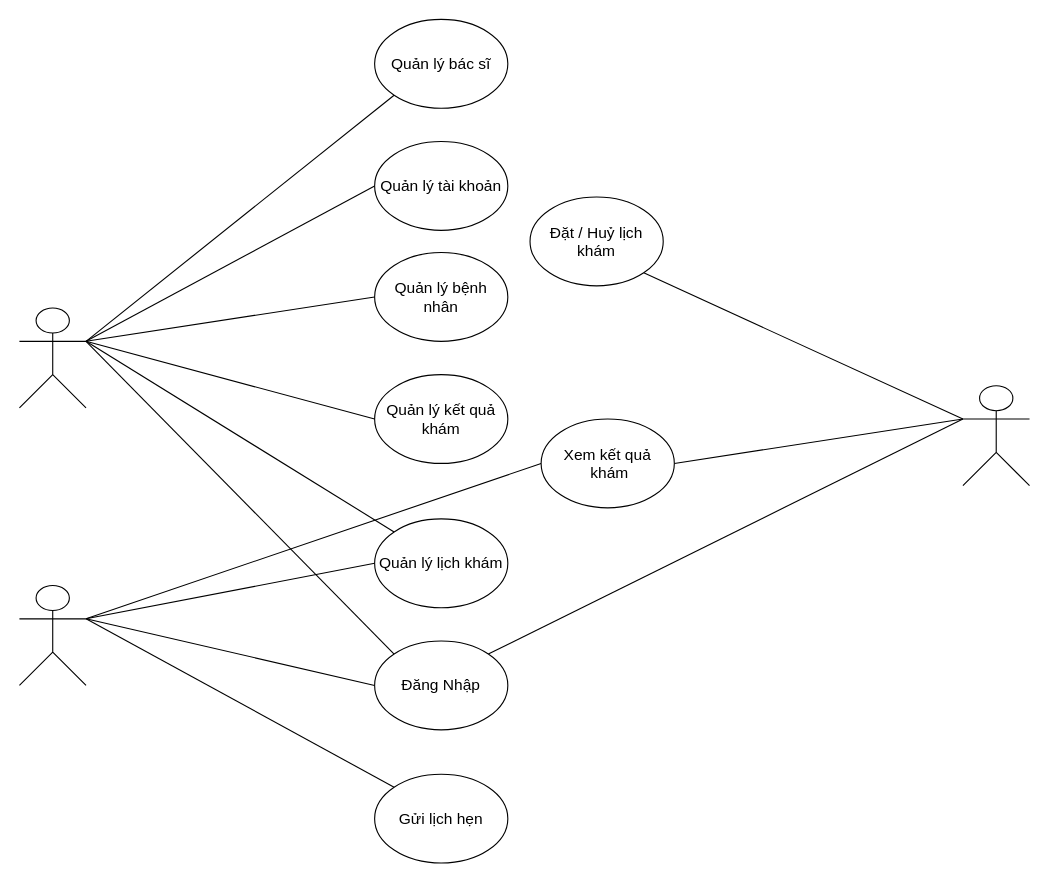
Some shapes in this 1049 by 882 pixel diagram are drawn without their labels. The shapes that lost their labels are listed below. From the top down, each one's centre as x and y in pixels, then its label:
At point (52, 357): "Admin".
At point (996, 435): "Patients".
At point (52, 634): "Doctor".
